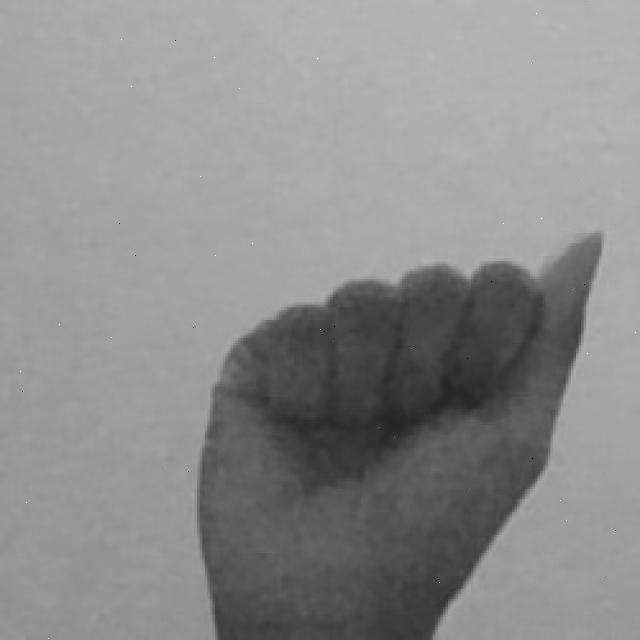A: (192, 217, 617, 640), (192, 220, 614, 640)
